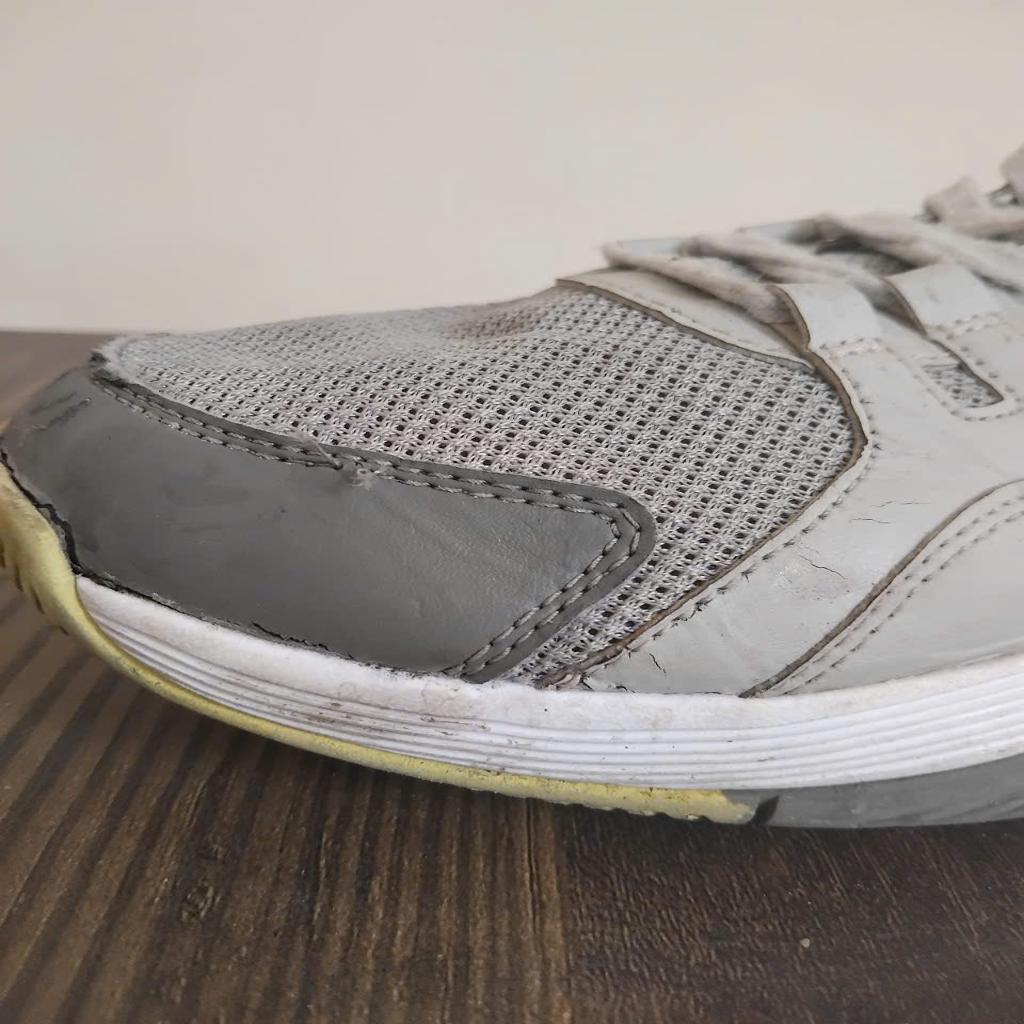broken: (312, 441, 391, 487)
